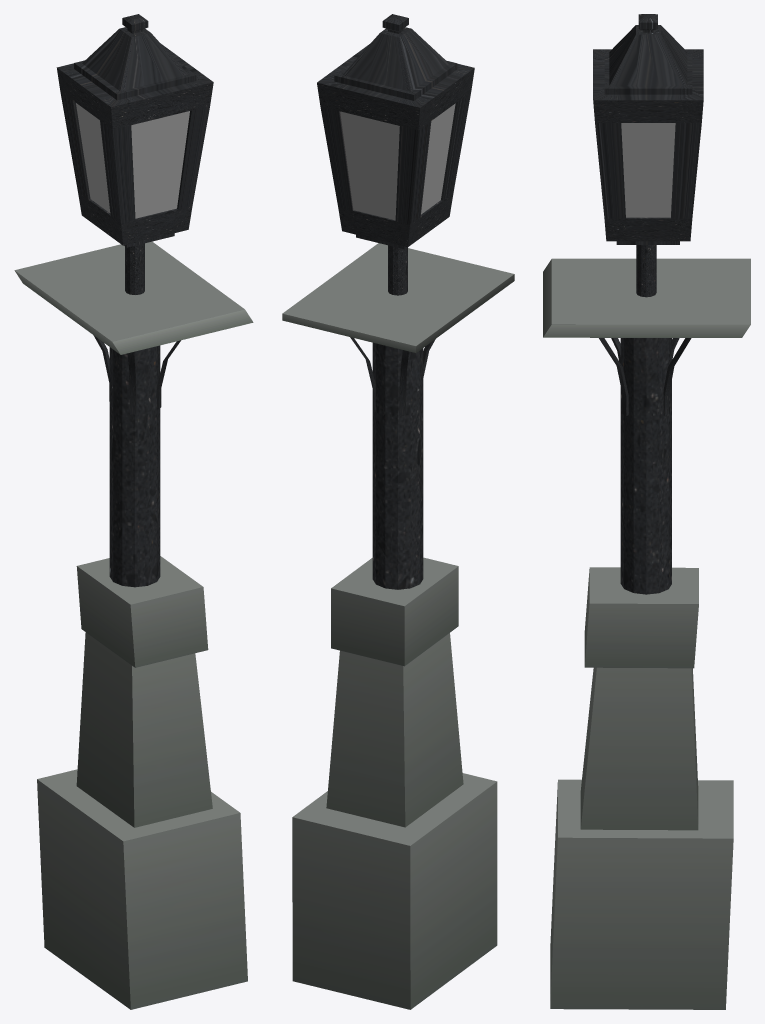
Rendered from GardenLight.obj.
3 renders of one model, left to right at view 1: azimuth 30°, elevation 25°; view 2: azimuth 150°, elevation 25°; view 3: azimuth 270°, elevation 25°, orthographic.
Parts seen in each view (by area): view 1: stand_lamp polySurface73, stand_lamp polySurface74, polySurface146 stand_lamp, stand_lamp polySurface76, stand_lamp pCylinder11, stand_lamp polySurface75, stand_lamp polySurface147, stand_lamp polySurface149, stand_lamp pCylinder12; view 2: stand_lamp polySurface73, stand_lamp polySurface74, polySurface146 stand_lamp, stand_lamp polySurface76, stand_lamp pCylinder11, stand_lamp polySurface75, stand_lamp polySurface251, stand_lamp polySurface149, stand_lamp pCylinder12; view 3: stand_lamp polySurface73, stand_lamp polySurface74, polySurface146 stand_lamp, stand_lamp polySurface76, stand_lamp pCylinder11, stand_lamp polySurface75, stand_lamp polySurface148, stand_lamp pCylinder12, stand_lamp pCube36, stand_lamp pCube37.
Part boxes in pixels (<box>): stand_lamp polySurface73: <box>37,769,247,1009</box>; stand_lamp polySurface74: <box>76,632,212,827</box>; polySurface146 stand_lamp: <box>56,14,213,247</box>; stand_lamp polySurface76: <box>14,241,253,354</box>; stand_lamp pCylinder11: <box>109,345,160,587</box>; stand_lamp polySurface75: <box>76,556,208,667</box>; stand_lamp polySurface147: <box>131,111,189,218</box>; stand_lamp polySurface149: <box>76,103,110,212</box>; stand_lamp pCylinder12: <box>125,243,144,294</box>; stand_lamp polySurface73: <box>292,773,497,1009</box>; stand_lamp polySurface74: <box>326,633,463,827</box>; polySurface146 stand_lamp: <box>317,14,474,249</box>; stand_lamp polySurface76: <box>282,243,514,352</box>; stand_lamp pCylinder11: <box>372,342,423,589</box>; stand_lamp polySurface75: <box>331,557,458,666</box>; stand_lamp polySurface251: <box>340,111,399,220</box>; stand_lamp polySurface149: <box>421,103,455,214</box>; stand_lamp pCylinder12: <box>388,245,407,295</box>; stand_lamp polySurface73: <box>550,779,733,1009</box>; stand_lamp polySurface74: <box>580,667,698,830</box>; polySurface146 stand_lamp: <box>593,14,703,244</box>; stand_lamp polySurface76: <box>543,258,750,337</box>; stand_lamp pCylinder11: <box>620,338,671,594</box>; stand_lamp polySurface75: <box>584,567,698,668</box>; stand_lamp polySurface148: <box>621,123,675,217</box>; stand_lamp pCylinder12: <box>636,245,656,297</box>; stand_lamp pCube36: <box>599,338,628,415</box>; stand_lamp pCube37: <box>663,338,691,415</box>.
Size of what is drawn, in the model's own units: 0.8943 by 5.9 by 1.16.
4 materials, 4 textured.
